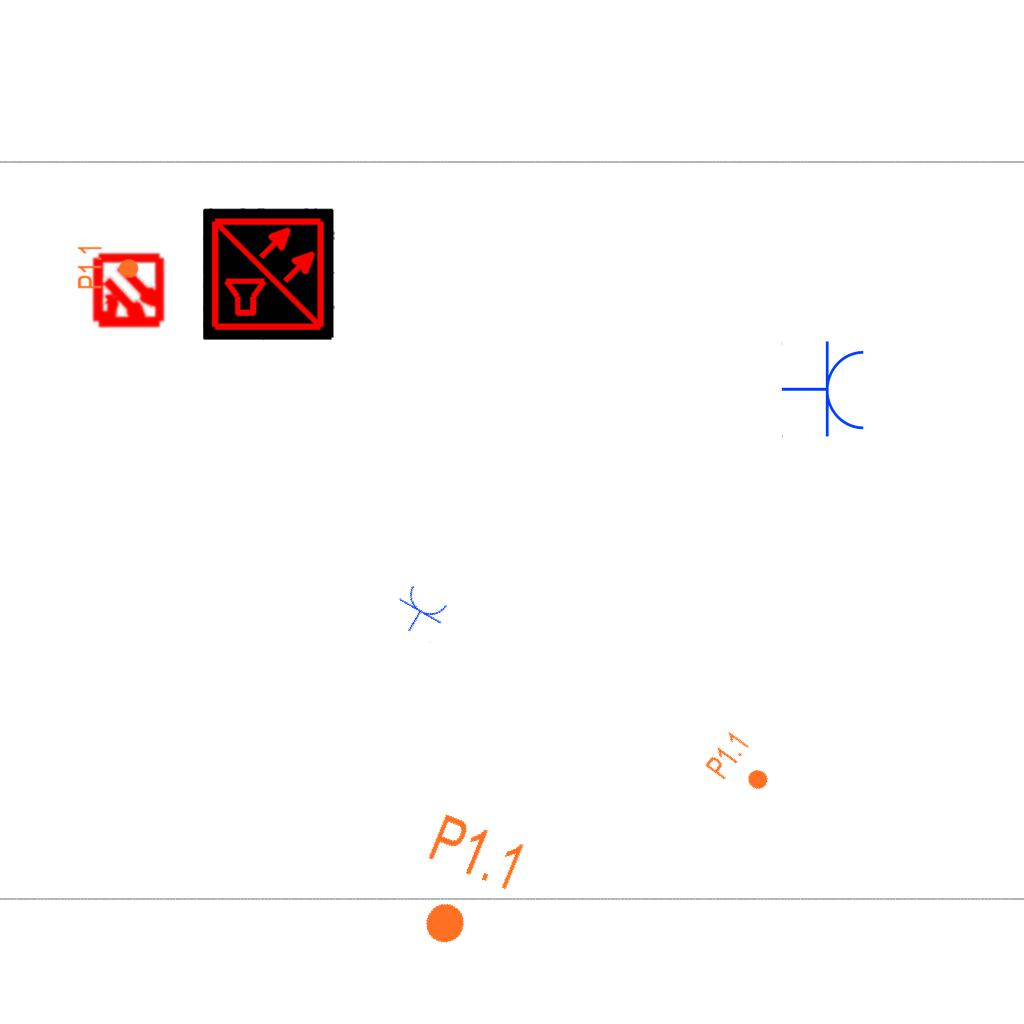Downlight_LED_Einbauleuchten_Flur: (396, 809, 531, 963), (702, 728, 782, 804), (76, 244, 140, 290)
OKW_Multisensormelder_(Kombination_optischer_Rauch-Kahlenmonoxid_Waerme-Melder): (203, 208, 335, 340)
OT_Multisensormelder_(Kombination_RMO_WMD): (72, 236, 185, 349)
Schukosteckdose_einfach: (781, 340, 868, 440), (387, 581, 453, 644)
